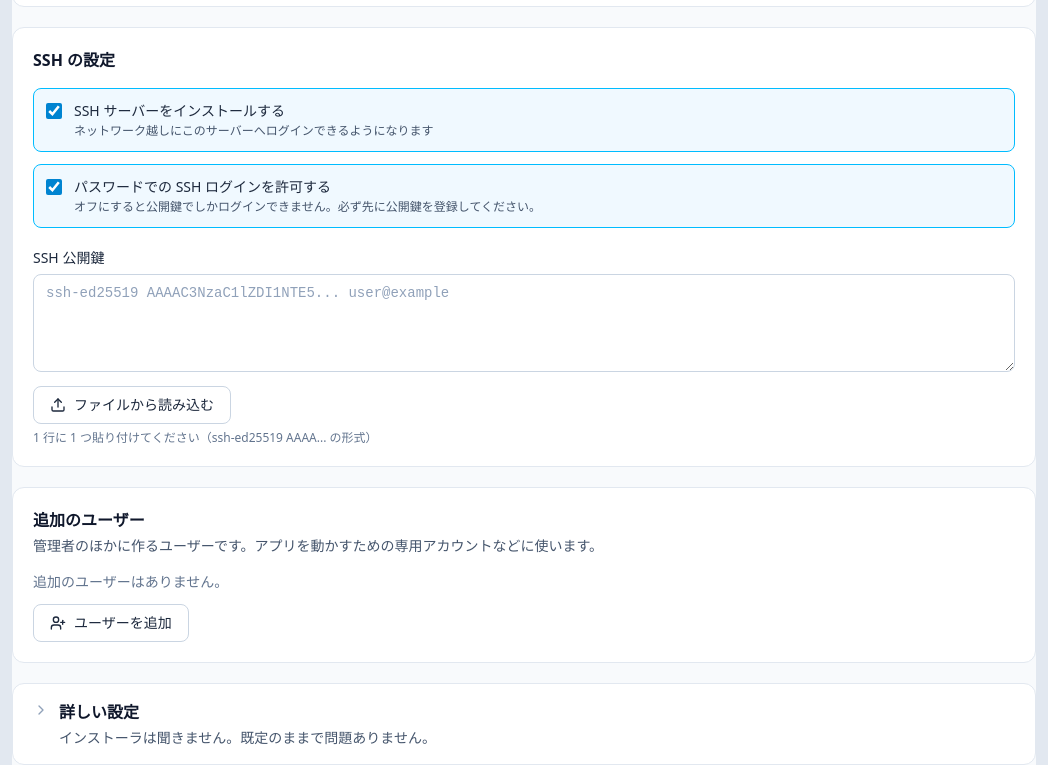
Test: UserStep の「詳しい設定」 › 開けば今までどおり操作できる（隠すだけで、触れなくしない）
(page scrolled)
Click the button "詳しい設定 インストーラは聞きません。既定のままで問題ありません。" at coordinates (99, 712), box left=13, top=684, right=1035, bottom=764
(page scrolled)
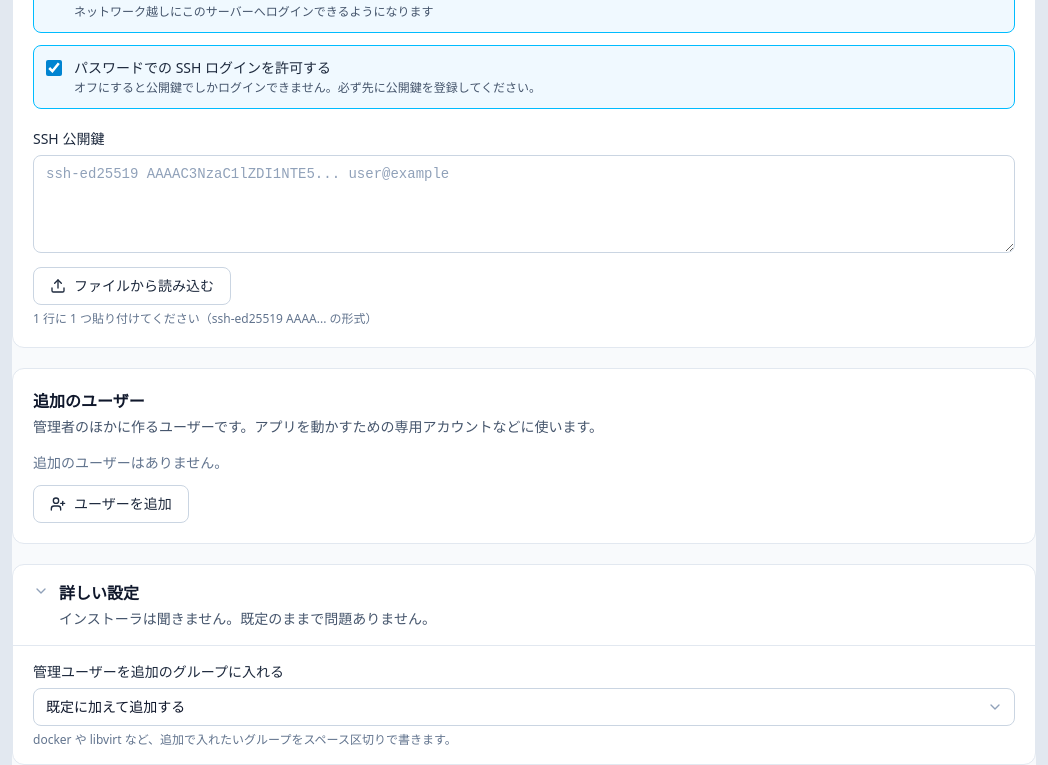
Now the dropdown is shown
Now the dropdown is enabled
Select "既定に加えて追加する" in the dropdown at coordinates (524, 707), box left=33, top=688, right=1015, bottom=726
(page scrolled)
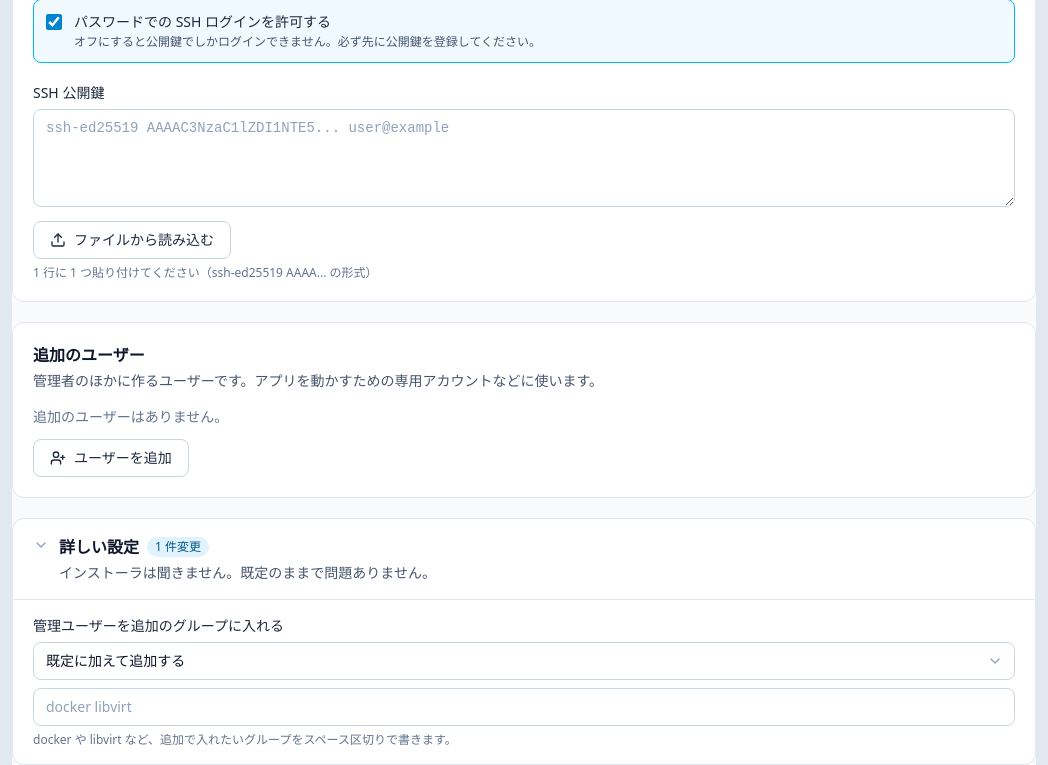
Now the field with placeholder "docker libvirt" is shown, box left=33, top=688, right=1015, bottom=726
